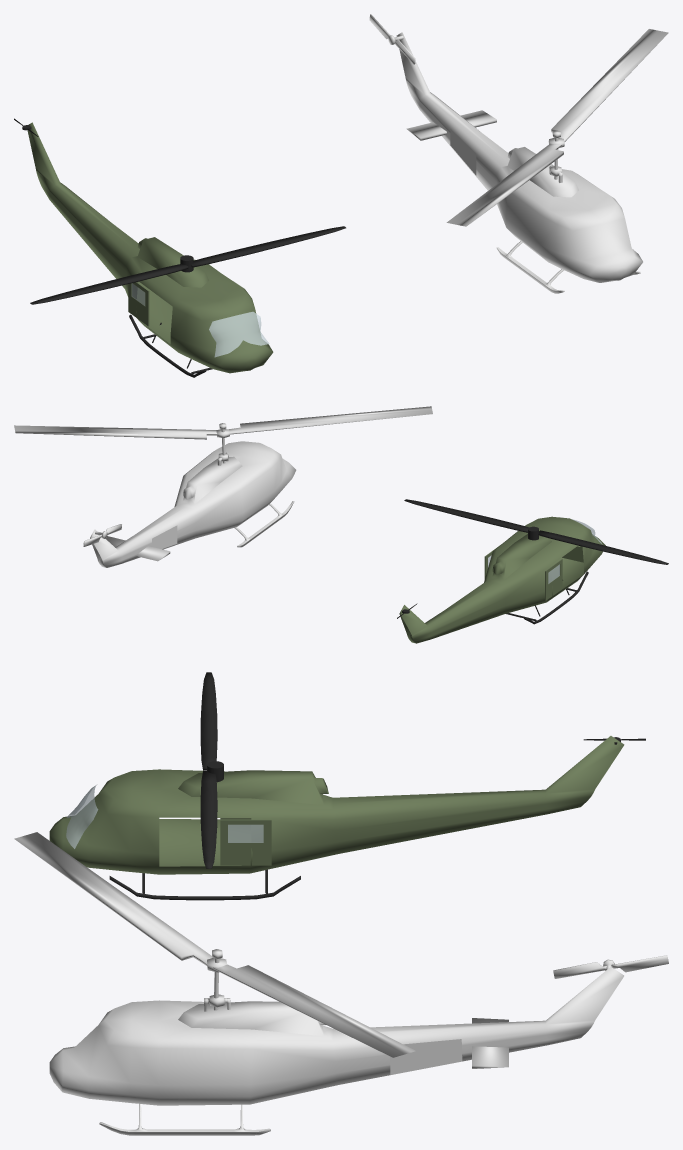
The model's file is huey.glb.
3 renders of one model, top to bottom at view 1: azimuth 30°, elevation 25°; view 2: azimuth 150°, elevation 25°; view 3: azimuth 270°, elevation 25°, orthographic. The views are drawn at different scales.
Visible parts, largest first — view 1: Huey_Copy, Body, Blade 2, Blade, Cockpit_Windshield, New_Blade_2, New_Blade_1, rater, Door_Left, Skies, Name_Plate 2; view 2: Body, Huey_Copy, Blade, Blade 2, New_Blade_2, New_Blade_1, rater, Door_Left, Name_Plate 2, Skies; view 3: Huey_Copy, Body, Blade, Blade 2, Door_Right, Name_Plate, New_Blade_1, New_Blade_2, Skies, Cockpit_Windshield, rater, New_Skid_R (+1 smaller).
Part boxes in pixels (x1,y1,x2,y2): Huey_Copy: (27, 122, 273, 373); Body: (396, 32, 642, 282); Blade 2: (551, 29, 668, 141); Blade: (446, 144, 563, 226); Cockpit_Windshield: (209, 311, 269, 357); New_Blade_2: (30, 264, 188, 304); New_Blade_1: (191, 226, 345, 267); rater: (406, 110, 496, 140); Door_Left: (128, 282, 149, 326); Skies: (496, 241, 640, 293); Name_Plate 2: (450, 129, 476, 175); Body: (90, 441, 296, 567); Huey_Copy: (399, 516, 605, 643); Blade: (228, 406, 432, 434); Blade 2: (14, 425, 217, 439); New_Blade_2: (538, 530, 668, 564); New_Blade_1: (404, 499, 529, 532); rater: (106, 536, 170, 561); Door_Left: (545, 559, 562, 600); Name_Plate 2: (152, 525, 177, 549); Skies: (234, 501, 294, 547); Huey_Copy: (49, 736, 624, 874); Body: (49, 967, 623, 1105); Blade: (14, 832, 212, 966); Blade 2: (213, 964, 415, 1057); Door_Right: (220, 819, 271, 865); Name_Plate: (390, 1039, 462, 1074); New_Blade_1: (200, 771, 217, 868); New_Blade_2: (200, 672, 217, 770); Skies: (99, 1104, 270, 1135); Cockpit_Windshield: (66, 784, 98, 848); rater: (472, 1018, 508, 1068); New_Skid_R: (109, 876, 300, 900).
Size of the model in its own units: 30.7 by 5.56 by 19.17.
